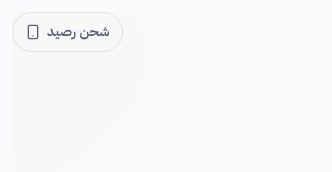
top-up buttons › closes the amount chips once one is chosen
Click the button "شحن رصيد" at (67, 32), box [12,12,122,52]
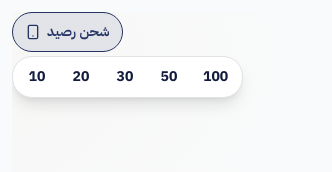
Click the menu item "30" at (125, 77), box [105,61,145,93]
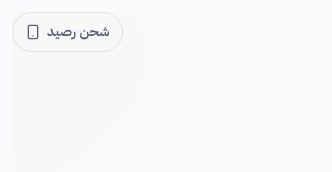
Result: the menu item "30" is gone
